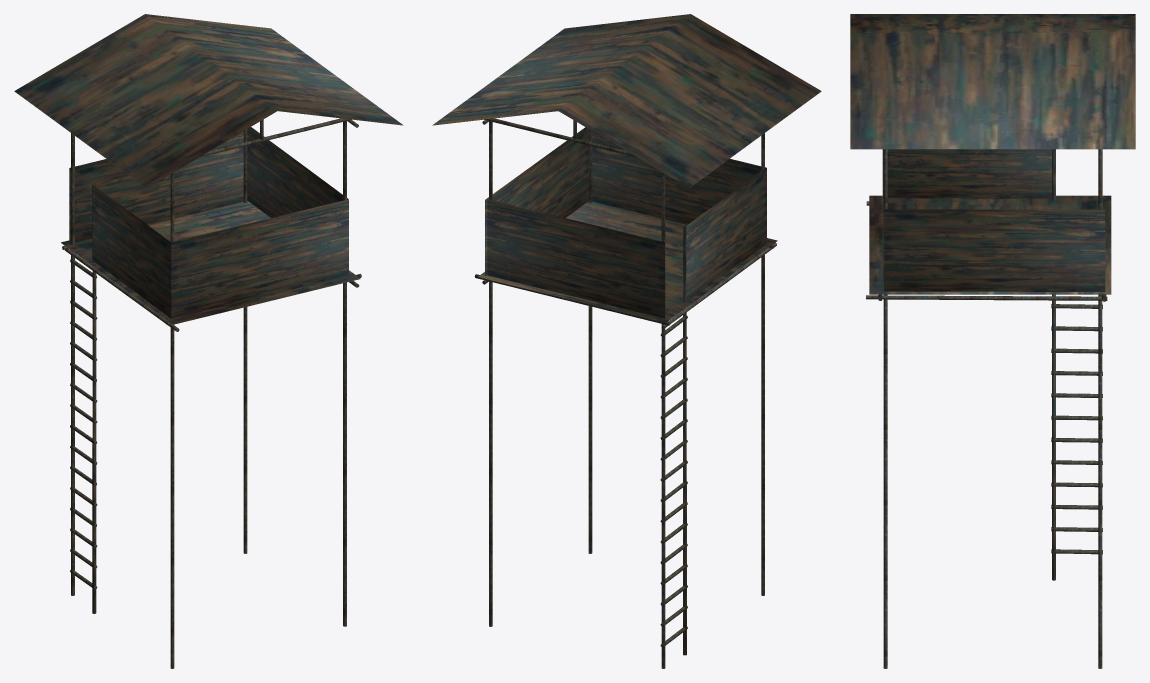
File: bridge-watchtower.zfix-v3.lod1.glb
3 views of the same model, side by side, from view 1: azimuth 30°, elevation 25°; view 2: azimuth 150°, elevation 25°; view 3: azimuth 270°, elevation 25° (orthographic). The views are drawn at different scales.
Visible parts, largest first — view 1: Object_2; view 2: Object_2; view 3: Object_2.
Part boxes in pixels (bbox=[...]): Object_2: bbox=[14, 14, 403, 668]; Object_2: bbox=[432, 14, 821, 668]; Object_2: bbox=[850, 14, 1135, 668].
Size of the model in its own units: 5.87 by 12 by 5.24.
1 material, 1 textured.
